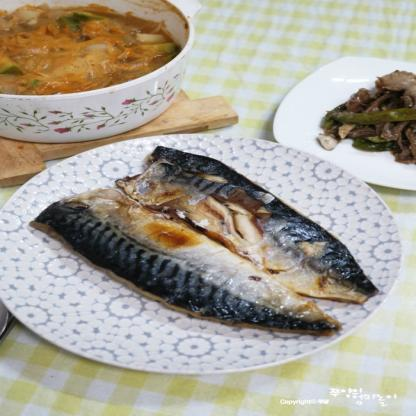Peixe: (26, 141, 416, 353)
